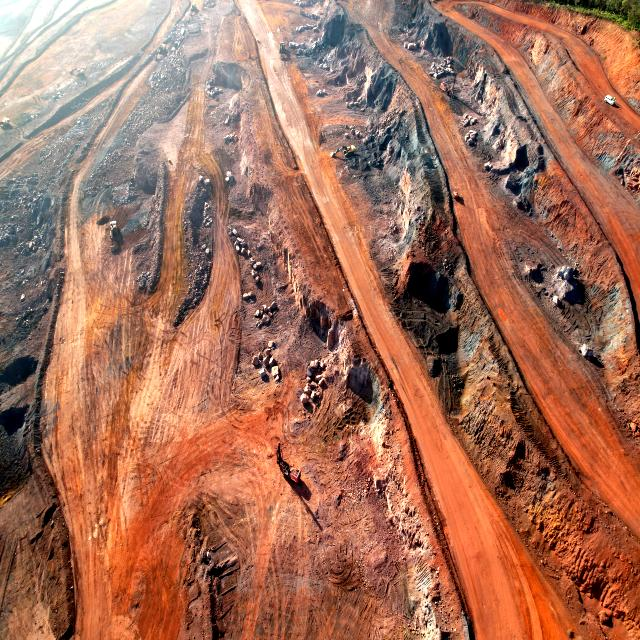Blast rig: (276, 442, 301, 483), (441, 71, 456, 96)
Excavator: (330, 145, 356, 157), (109, 221, 118, 252), (154, 43, 167, 60), (70, 67, 85, 77), (0, 116, 10, 129), (279, 42, 285, 59), (189, 2, 196, 16)
car: (605, 95, 615, 105)
person: (615, 99, 616, 104), (614, 96, 615, 101)
